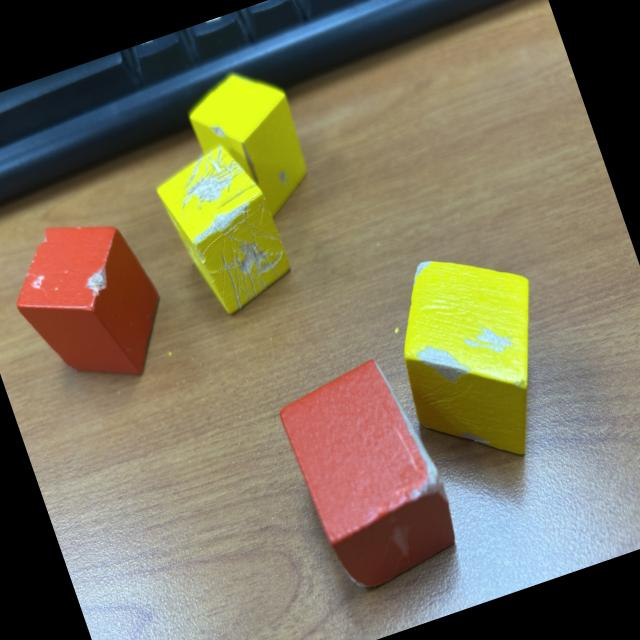broken: (368, 230, 582, 484), (271, 350, 469, 598), (0, 198, 183, 406), (148, 136, 300, 325), (178, 56, 323, 234)
